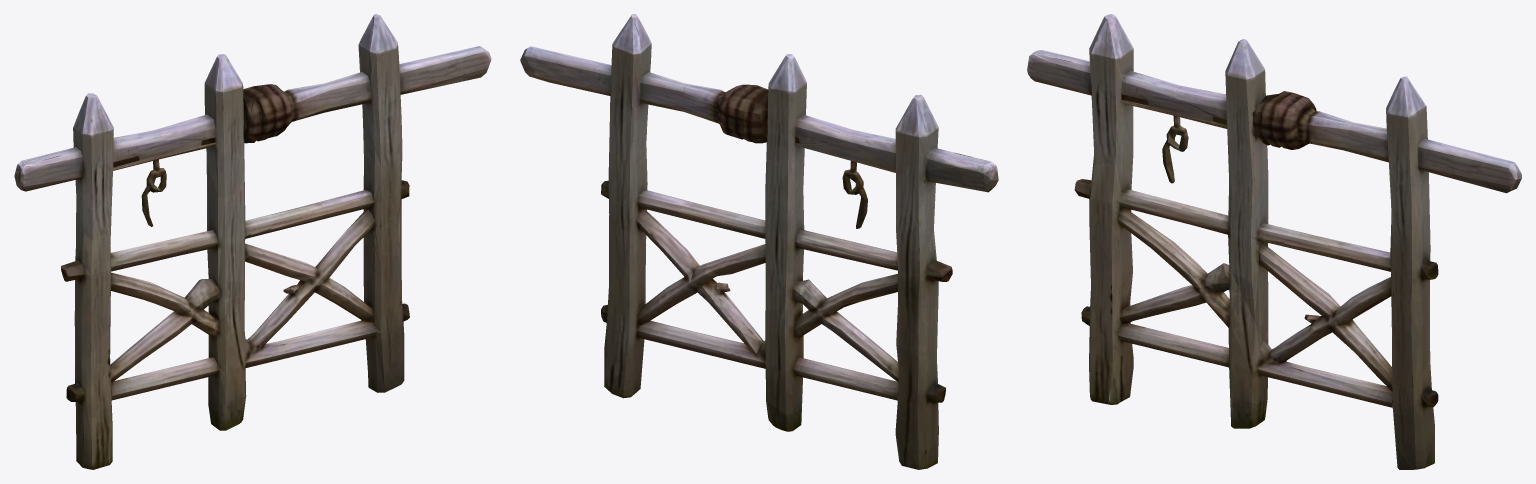
The model's file is village_hitching_post_01.glb.
3 renders of one model, left to right at view 1: azimuth 30°, elevation 25°; view 2: azimuth 150°, elevation 25°; view 3: azimuth 330°, elevation 25°, orthographic. The views are drawn at different scales.
Visible parts, largest first — view 1: geometry_0; view 2: geometry_0; view 3: geometry_0.
Part boxes in pixels (left/top/right/bottom): geometry_0: left=14, top=14, right=491, bottom=469; geometry_0: left=520, top=14, right=998, bottom=469; geometry_0: left=1027, top=14, right=1521, bottom=469.
Bounding box in the file's own units: 0.9993 × 0.7619 × 0.1012.
Materials: 1 (1 with a texture image).
